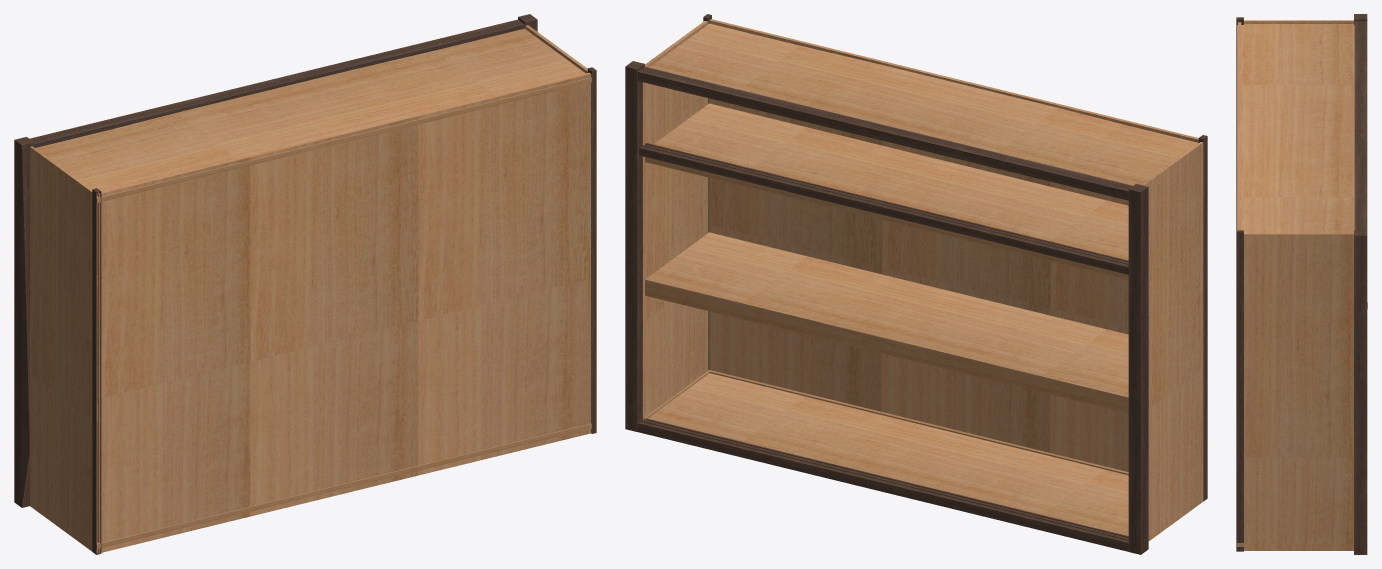
Rendered from inwall_osiire_2t_a.fbx.
3 renders of one model, left to right at view 1: azimuth 30°, elevation 25°; view 2: azimuth 150°, elevation 25°; view 3: azimuth 270°, elevation 25°, orthographic. The views are drawn at different scales.
Visible parts, largest first — view 1: inwall_osiire_2t_a; view 2: inwall_osiire_2t_a; view 3: inwall_osiire_2t_a.
Boxes of the visible parts, left/top/right/bottom form: inwall_osiire_2t_a: left=14, top=14, right=596, bottom=554; inwall_osiire_2t_a: left=625, top=14, right=1207, bottom=554; inwall_osiire_2t_a: left=1236, top=14, right=1367, bottom=554.
Size of the model in its own units: 440 by 296 by 110.
